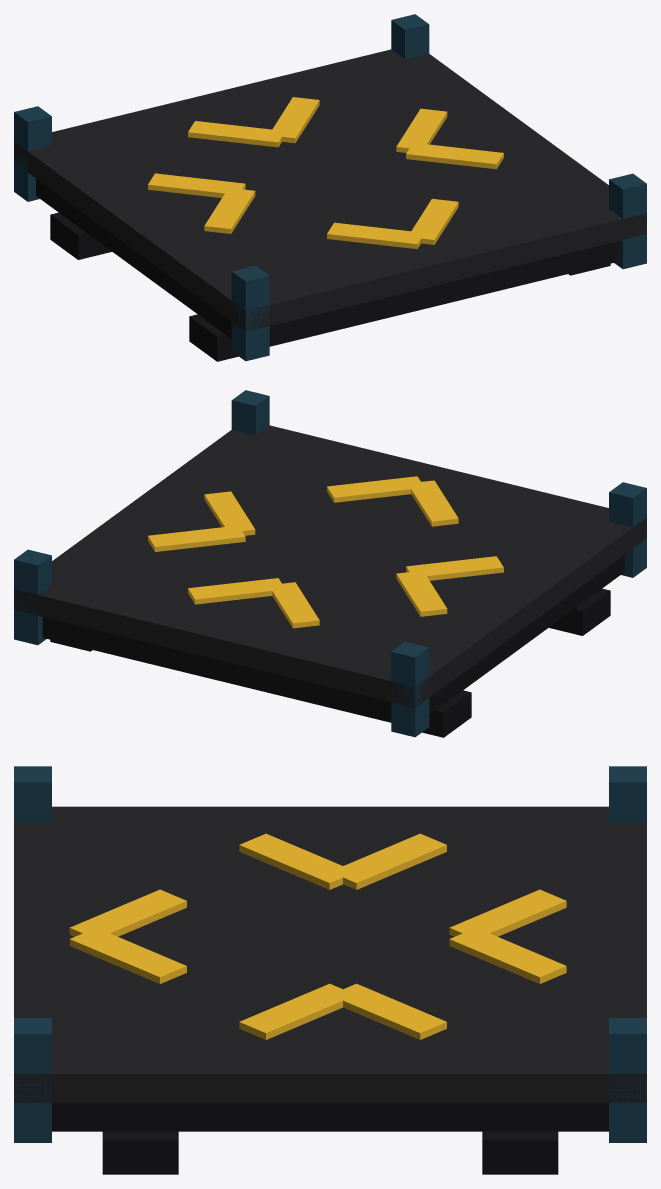
File: belt_triple.obj
3 renders of one model, top to bottom at view 1: azimuth 30°, elevation 25°; view 2: azimuth 150°, elevation 25°; view 3: azimuth 270°, elevation 25°, orthographic. The views are drawn at different scales.
Visible parts, largest first — view 1: Belt, Frame, Arrows; view 2: Belt, Frame, Arrows; view 3: Belt, Arrows, Frame.
Part boxes in pixels (<box>): Belt: <box>14,49,646,346</box>; Frame: <box>14,14,646,361</box>; Arrows: <box>148,97,503,249</box>; Belt: <box>14,425,646,722</box>; Frame: <box>14,390,646,737</box>; Arrows: <box>148,476,503,628</box>; Belt: <box>14,806,646,1131</box>; Arrows: <box>69,833,566,1039</box>; Frame: <box>14,766,646,1174</box>.
Size of the model in its own units: 1 by 0.25 by 1.
